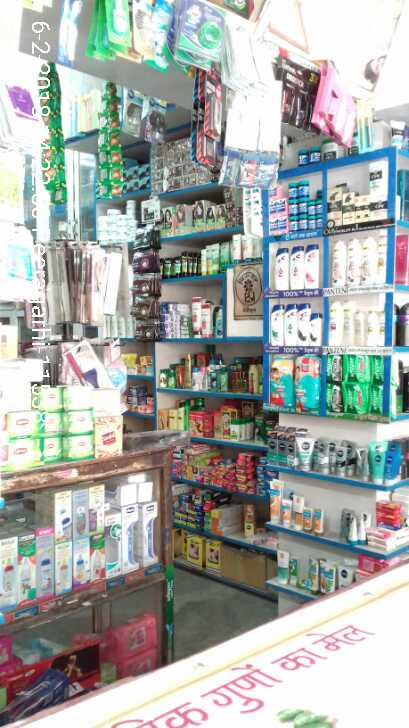vicks: (268, 177, 321, 235)
